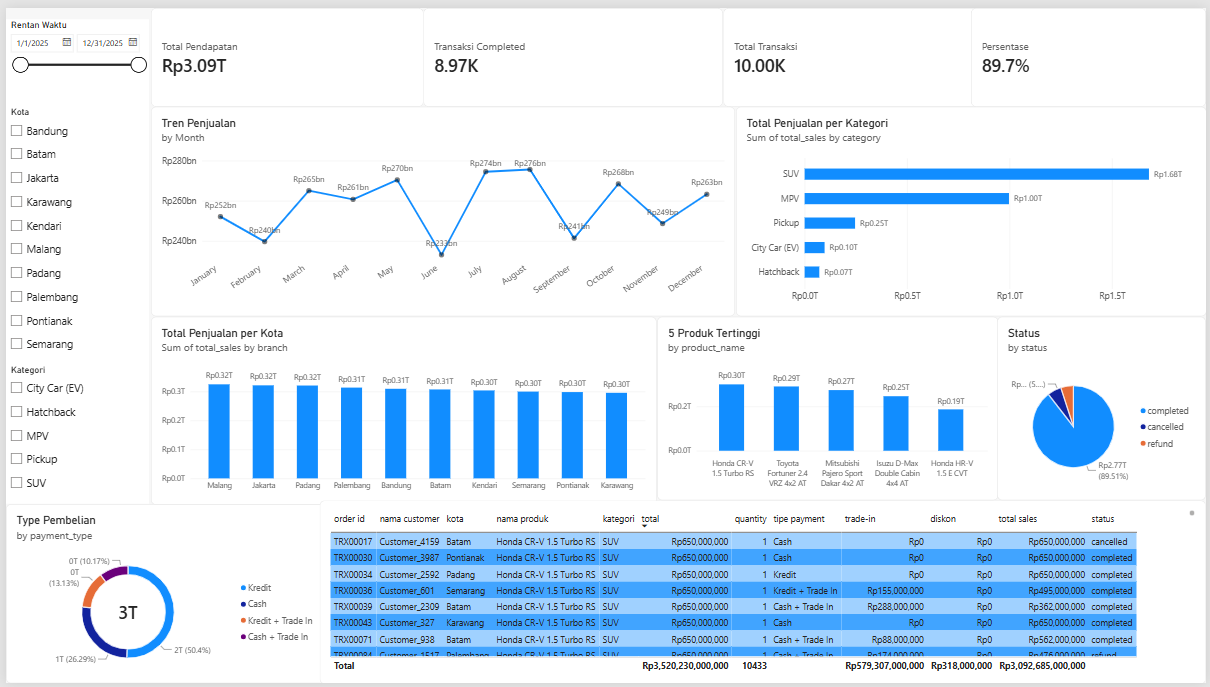

This screenshot's page, from the dashboard's own definition file:
{"tool":"powerbi","page":{"name":"Page 1","canvas":[1920,1080],"ordinal":0},"visuals":[{"type":"slicer","fields":{"Values":["Sheet1.branch"]},"box":[0,158.5,228.7,412.5],"z":0},{"type":"barChart","title":"Total Penjualan per Kategori","fields":{"Category":["Sheet1.category"],"Y":["Sum(Sheet1.total_sales)"]},"box":[1167.1,158.5,752.9,335],"z":1000},{"type":"clusteredColumnChart","title":"Total Penjualan per Kota","fields":{"Category":["Sheet1.branch"],"Y":["Sum(Sheet1.total_sales)"]},"box":[232.3,493.5,808.7,300.8],"z":2000},{"type":"clusteredColumnChart","fields":{"Category":["Sheet1.product_name"],"Y":["Sum(Sheet1.total_sales)"]},"box":[1041.1,493.5,545.7,293.6],"z":3000},{"type":"cardVisual","fields":{"Data":["Sheet1.Total Transaction"]},"box":[1147.7,0,408.1,158.7],"z":4000},{"type":"cardVisual","fields":{"Data":["Sheet1.Completed Transaction"]},"box":[668,0,479.7,158.7],"z":5000},{"type":"cardVisual","fields":{"Data":["Sheet1.%Completion Rate"]},"box":[1543.6,0,376.7,158.7],"z":7000},{"type":"donutChart","fields":{"Category":["Sheet1.payment_type"],"Y":["Sum(Sheet1.total_sales)"]},"box":[0,794.3,516.9,286.4],"z":8000},{"type":"pieChart","fields":{"Category":["Sheet1.status"],"Y":["Sum(Sheet1.total_sales)"]},"box":[1586.8,493.5,333.2,293.6],"z":9000},{"type":"slicer","title":"Kategori","fields":{"Values":["Sheet1.category"]},"box":[0,571,228.7,223.3],"z":10000},{"type":"slicer","fields":{"Values":["Sheet1.sales_date"]},"box":[0,18,228.7,140.5],"z":11000},{"type":"cardVisual","fields":{"Data":["Sum(Sheet1.total_sales)"]},"box":[232,0,436,158.7],"z":12000},{"type":"lineChart","fields":{"Category":["Sheet1.sales_date.Variation.Date Hierarchy.Month"],"Y":["Sum(Sheet1.total_sales)"]},"box":[232.3,158.5,934.8,335],"z":13000},{"type":"tableEx","fields":{"Values":["Sheet1.order_id","Sheet1.customer_name","Sheet1.branch","Sheet1.product_name","Sheet1.category","Sum(Sheet1.price)","Sum(Sheet1.quantity)","Sheet1.payment_type","Sum(Sheet1.trade_in)","Sum(Sheet1.discount)","Sum(Sheet1.total_sales)","Sheet1.status"]},"box":[502.5,787.1,1417.5,293.6],"z":14000}]}

Visuals, with their boxes in screenshot pixels (x1, y1, x2, y2), scaled from the page's 1920x1080 canvas onto the 1210x687 screenshot:
slicer - Sheet1.branch: <bbox>0, 101, 144, 363</bbox>
"Total Penjualan per Kategori" barChart: <bbox>736, 101, 1209, 314</bbox>
"Total Penjualan per Kota" clusteredColumnChart: <bbox>146, 314, 656, 505</bbox>
clusteredColumnChart - Sheet1.product_name x Sum(Sheet1.total_sales): <bbox>656, 314, 1000, 501</bbox>
cardVisual - Sheet1.Total Transaction: <bbox>723, 0, 980, 101</bbox>
cardVisual - Sheet1.Completed Transaction: <bbox>421, 0, 723, 101</bbox>
cardVisual - Sheet1.%Completion Rate: <bbox>973, 0, 1209, 101</bbox>
donutChart - Sheet1.payment_type x Sum(Sheet1.total_sales): <bbox>0, 505, 326, 686</bbox>
pieChart - Sheet1.status x Sum(Sheet1.total_sales): <bbox>1000, 314, 1209, 501</bbox>
"Kategori" slicer: <bbox>0, 363, 144, 505</bbox>
slicer - Sheet1.sales_date: <bbox>0, 11, 144, 101</bbox>
cardVisual - Sum(Sheet1.total_sales): <bbox>146, 0, 421, 101</bbox>
lineChart - Sheet1.sales_date.Variation.Date Hierarchy.Month x Sum(Sheet1.total_sales): <bbox>146, 101, 736, 314</bbox>
tableEx - Sheet1.order_id x Sheet1.customer_name: <bbox>317, 501, 1209, 686</bbox>
